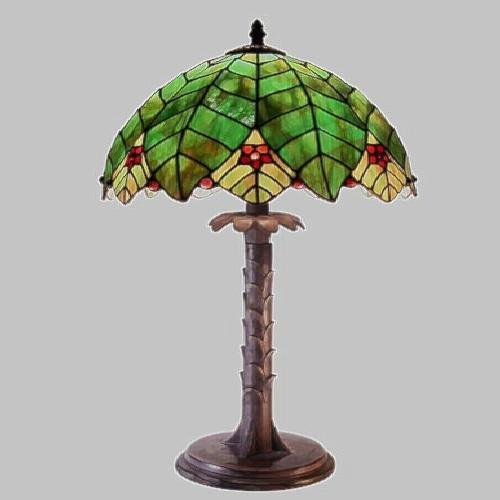lamp: (110, 23, 418, 487)
